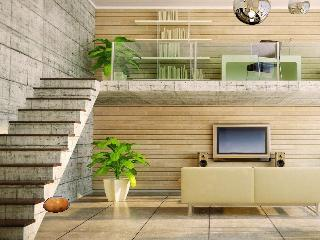potato: (43, 197, 69, 213)
